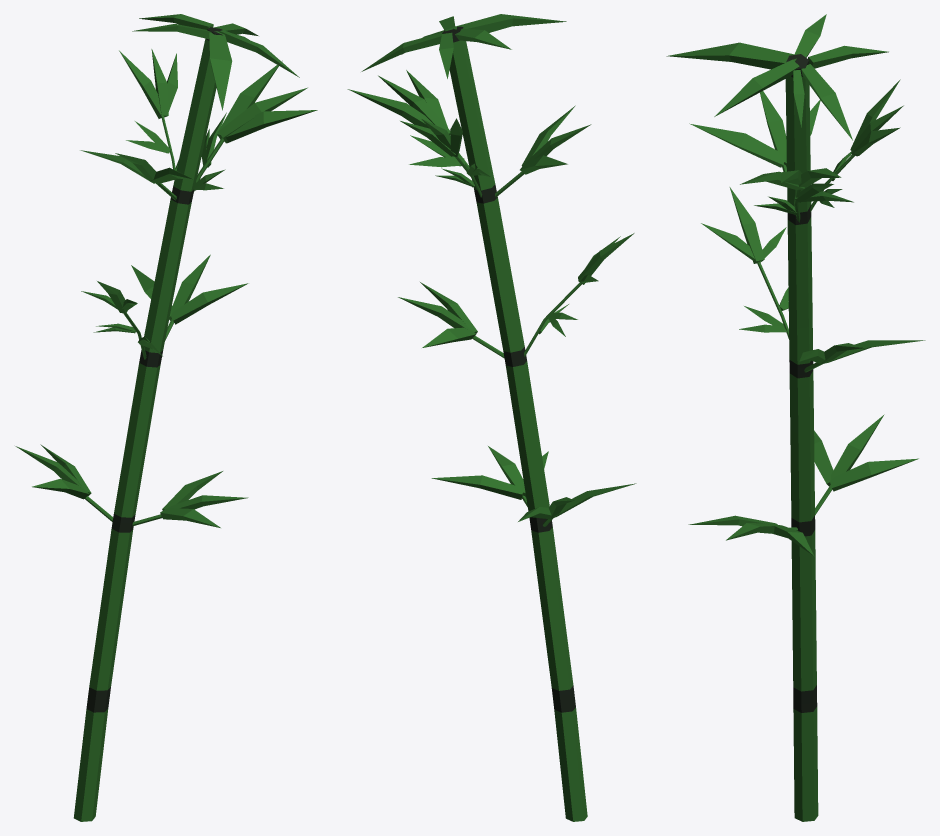
The model's file is bamboo5.FBX.
The picture shows the model from 3 angles, left to right: view 1: azimuth 30°, elevation 25°; view 2: azimuth 150°, elevation 25°; view 3: azimuth 270°, elevation 25°; orthographic projection. The views are drawn at different scales.
Visible parts, largest first — view 1: bamboo5; view 2: bamboo5; view 3: bamboo5.
Part boxes in pixels (x1,y1,x2,y2): bamboo5: (15,14,317,821); bamboo5: (347,14,636,821); bamboo5: (666,14,925,821).
Bounding box in the file's own units: 81.02 × 61.57 × 219.
